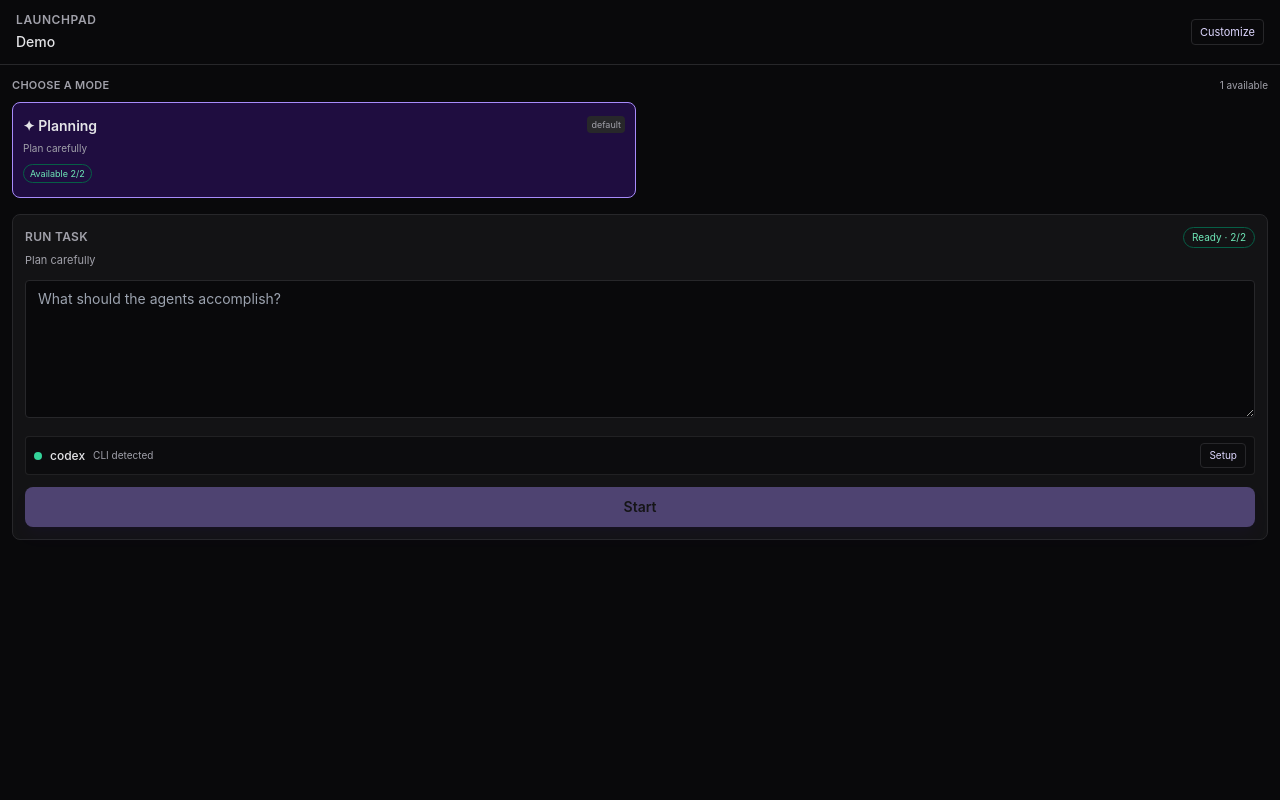
Test case: WorkflowPanel › selects a listed model
Click the button "Customize" at (1227, 32), box 1191,19 -> 1264,45
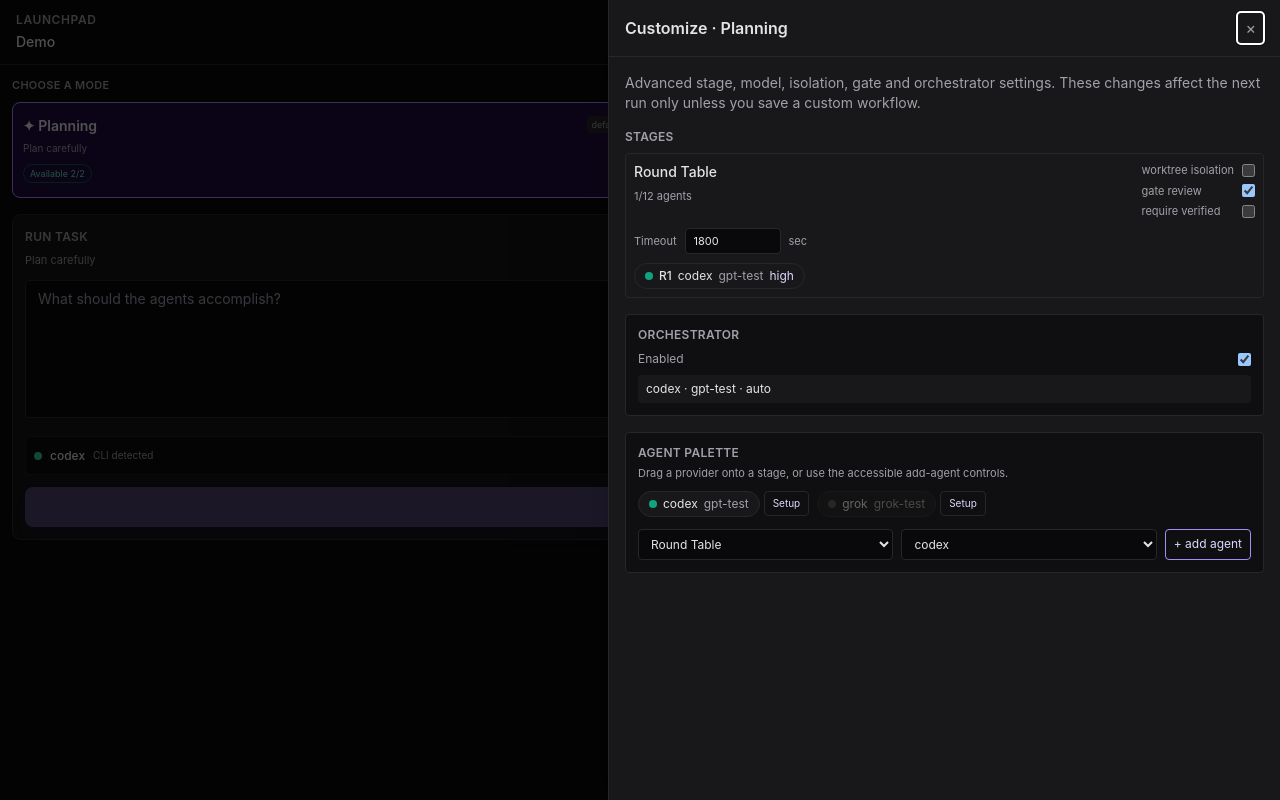
Click the button "R1 codex gpt-test high" at (719, 276), box 634,262 -> 805,289
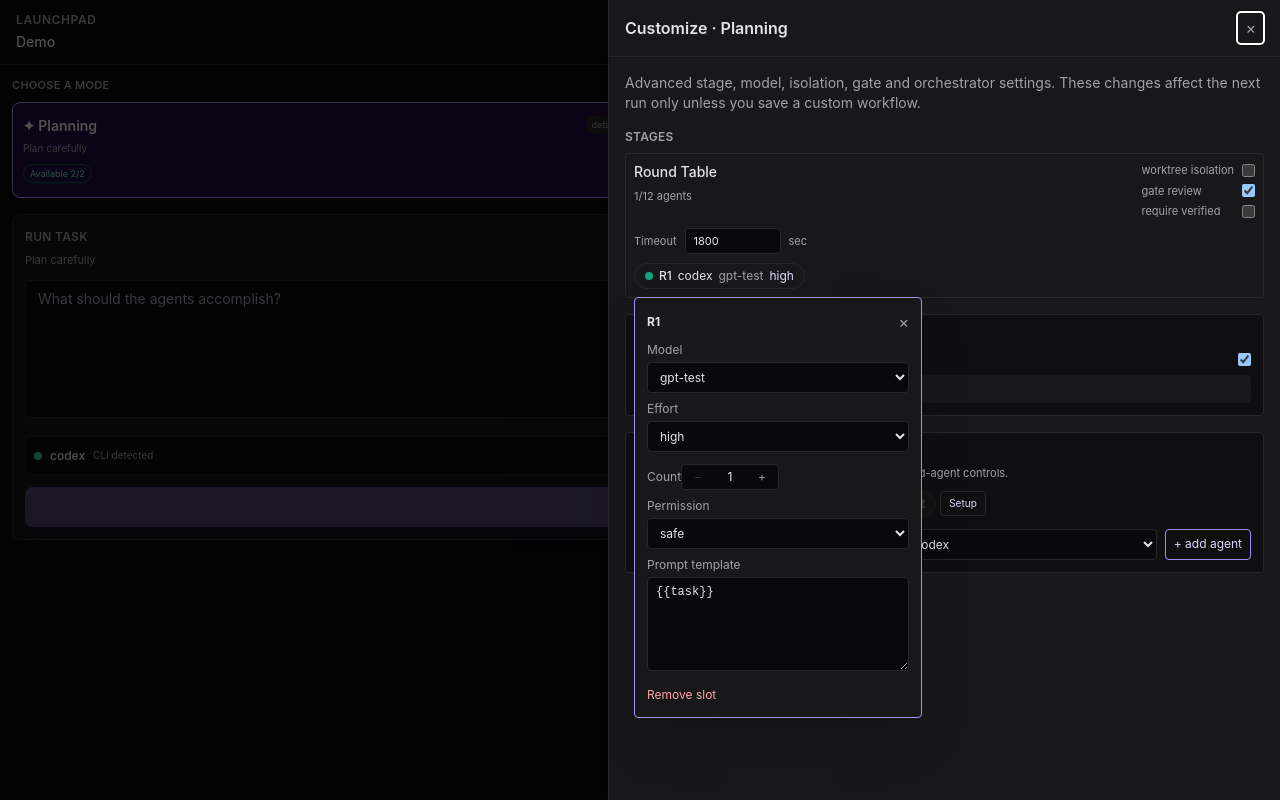
Select "gpt-next" in the dropdown labelled "Model" at (778, 378), box 647,362 -> 909,393
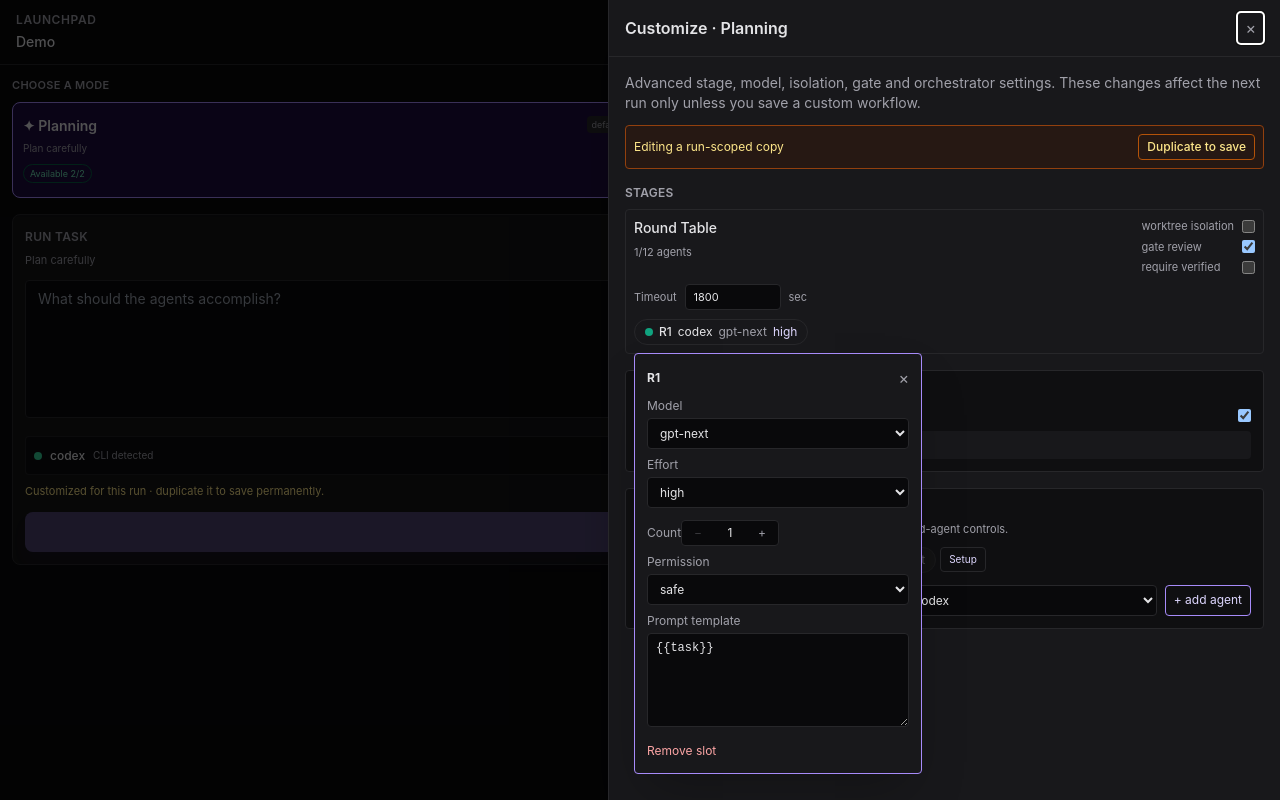
Now the text "gpt-next" is shown, box 718,324 -> 767,340
